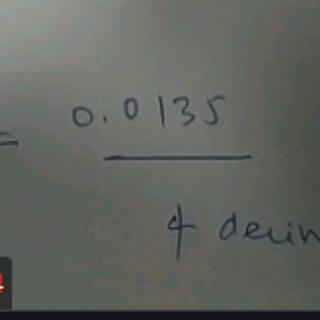.: (122, 95, 141, 120), (99, 113, 110, 126)
0: (72, 105, 92, 130)
1: (156, 93, 167, 128)
3: (172, 95, 198, 128)
4: (167, 203, 195, 263)
5: (201, 91, 225, 127)
